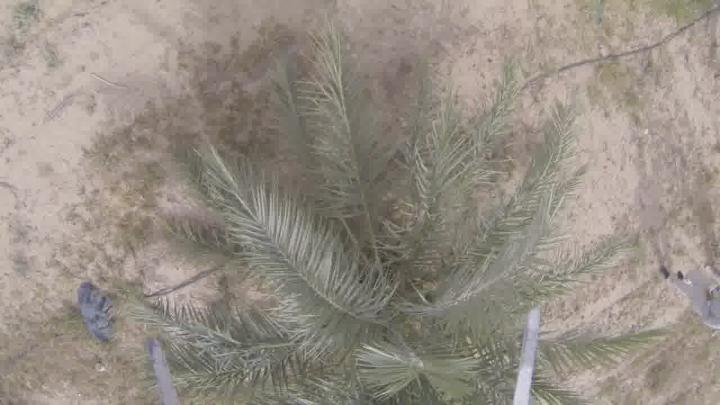Date-Palm-Crown: (271, 158, 517, 404)
